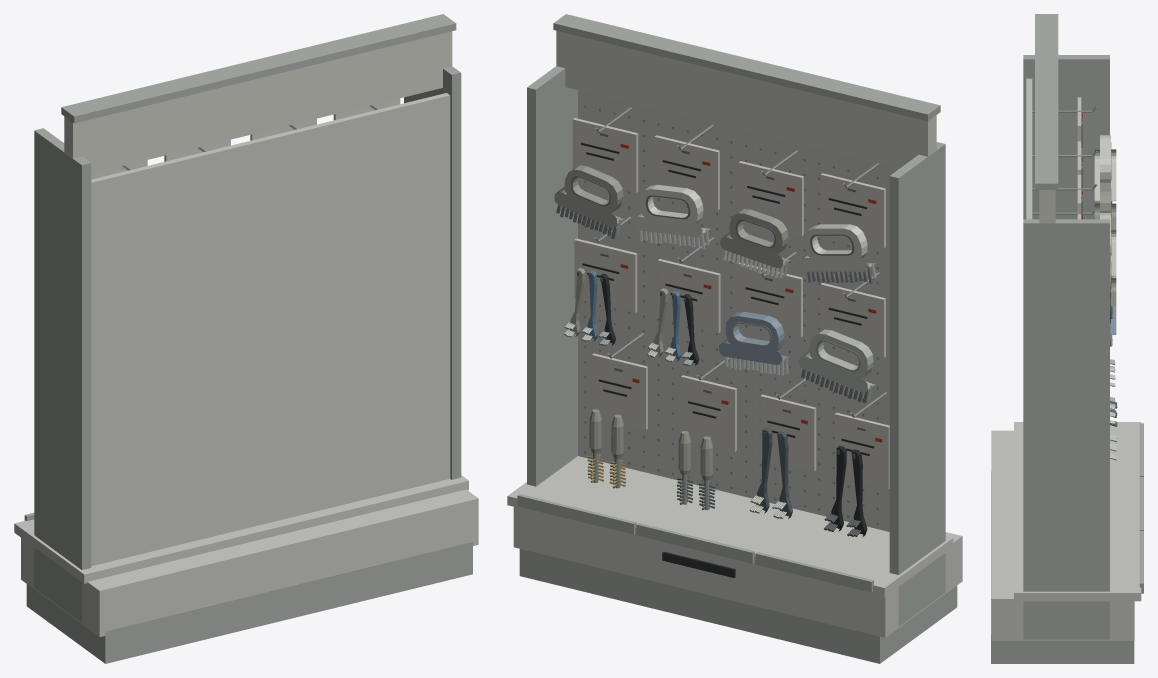
The model's file is brushes.glb.
3 renders of one model, left to right at view 1: azimuth 30°, elevation 25°; view 2: azimuth 150°, elevation 25°; view 3: azimuth 270°, elevation 25°, orthographic. The views are drawn at different scales.
Parts seen in each view (by area): view 1: DaisoBrushStand; view 2: DaisoBrushStand; view 3: DaisoBrushStand.
Boxes of the visible parts, box(x1,y1,x2,y2) form: DaisoBrushStand: box(14, 14, 478, 663); DaisoBrushStand: box(507, 14, 962, 663); DaisoBrushStand: box(991, 14, 1143, 663).
Bounding box in the file's own units: 1.52 × 2.01 × 0.5759.
